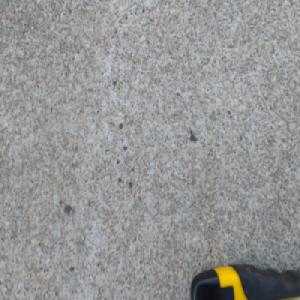Cutter: (188, 258, 300, 300)
